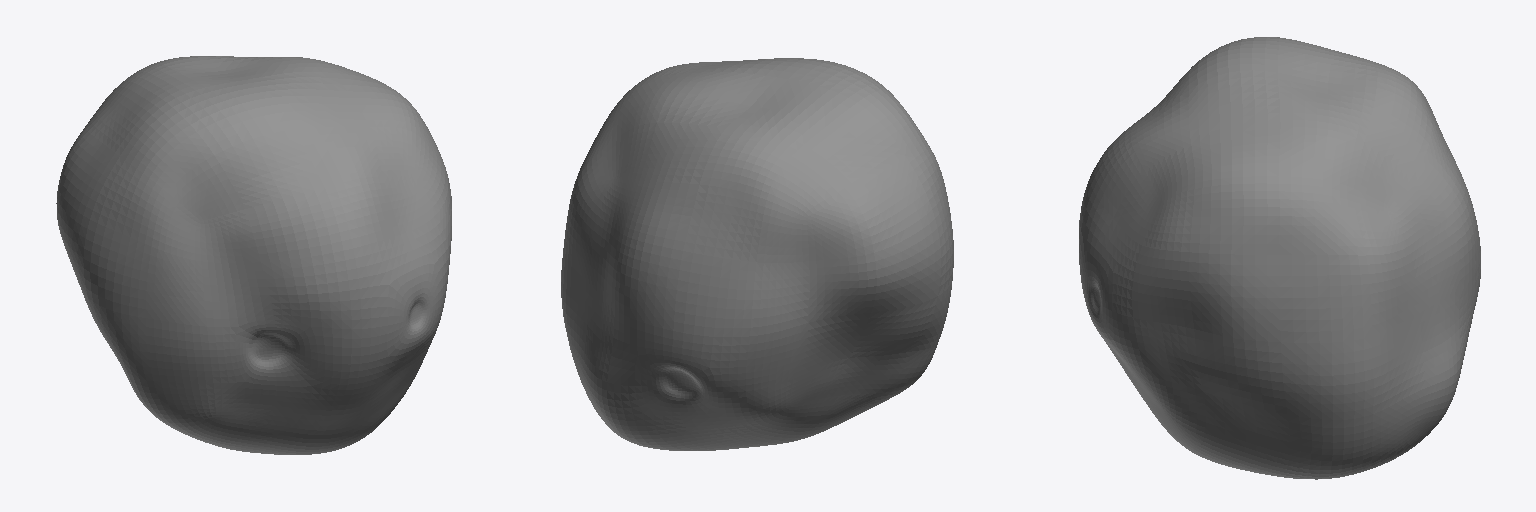
File: asteroid.obj
3 views of the same model, side by side, from view 1: azimuth 30°, elevation 25°; view 2: azimuth 150°, elevation 25°; view 3: azimuth 270°, elevation 25° (orthographic).
Parts seen in each view (by area): view 1: 10464_Asteroid_v1; view 2: 10464_Asteroid_v1; view 3: 10464_Asteroid_v1.
Boxes of the visible parts, <box> form: 10464_Asteroid_v1: <box>56,56,451,454</box>; 10464_Asteroid_v1: <box>561,58,953,450</box>; 10464_Asteroid_v1: <box>1079,37,1480,479</box>.
Size of the model in its own units: 1365 by 1383 by 1377.